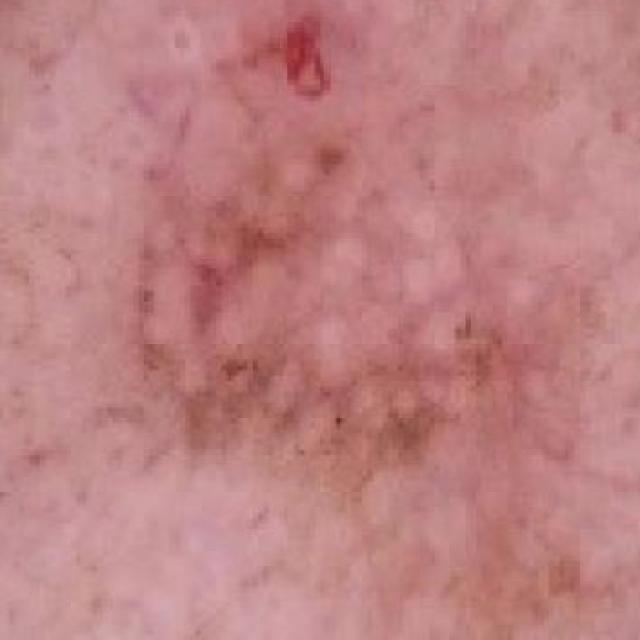AKIEC: (50, 0, 598, 523)
